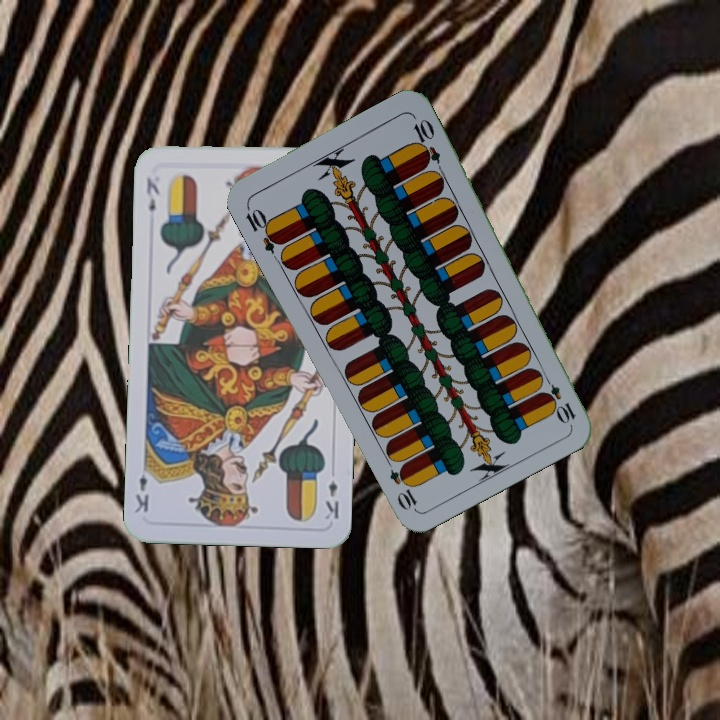E10: (241, 201, 285, 256), (538, 371, 578, 426)
EK: (321, 463, 342, 522), (142, 174, 162, 215)
